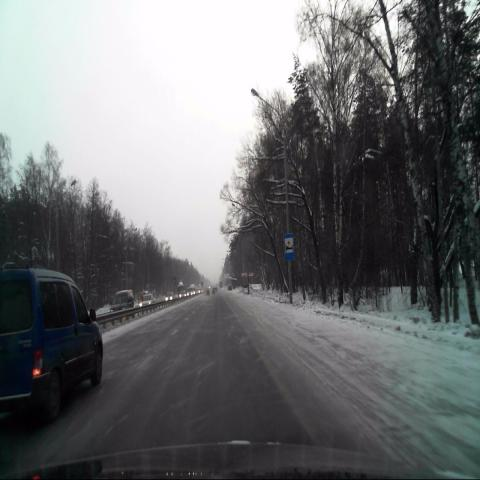7_2: (284, 233, 294, 260)
